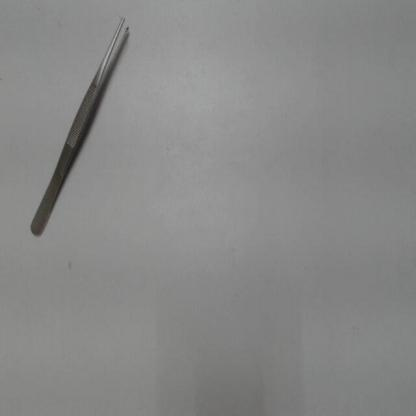Gillies Toothed Dissector: (20, 8, 137, 243)
